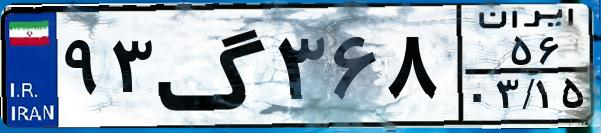0: (470, 70, 495, 125)
1: (535, 70, 560, 125)
3: (270, 28, 330, 110), (110, 28, 156, 98), (495, 70, 520, 125)
5: (560, 70, 590, 125), (508, 27, 537, 80)
6: (330, 28, 385, 110), (537, 27, 568, 80)
8: (385, 28, 445, 110)
9: (57, 26, 110, 100)
گ: (156, 12, 270, 120)
